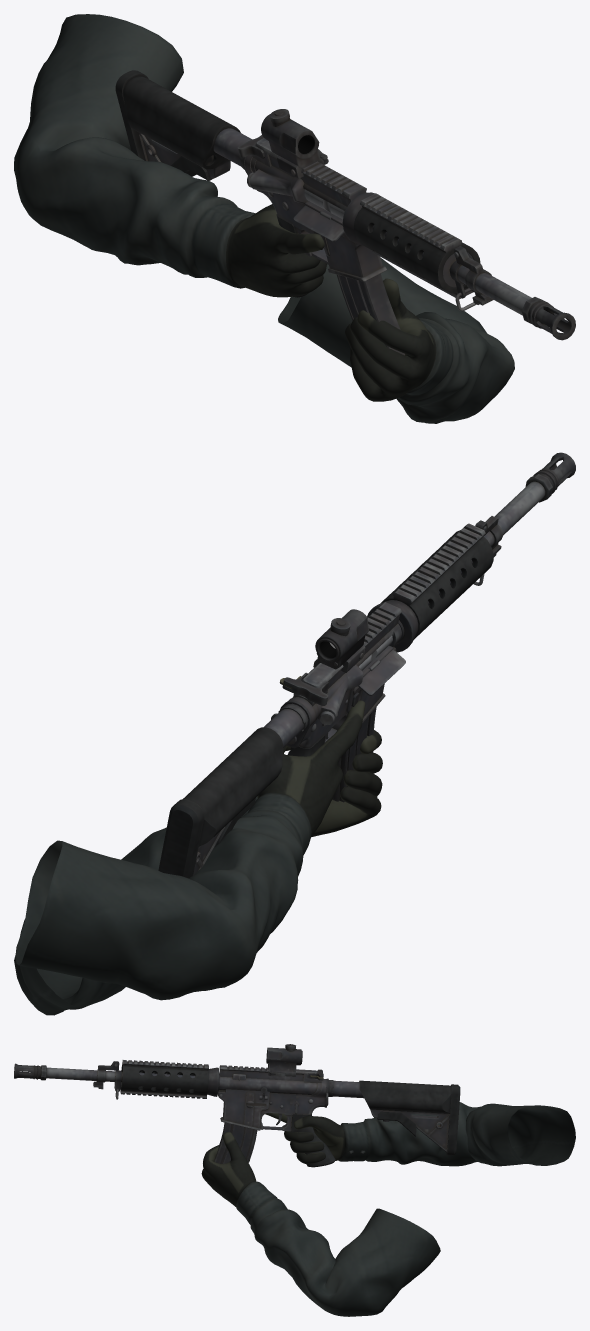
The model's file is carbine_000064.obj.
3 renders of one model, top to bottom at view 1: azimuth 30°, elevation 25°; view 2: azimuth 150°, elevation 25°; view 3: azimuth 270°, elevation 25°, orthographic. The views are drawn at different scales.
Parts seen in each view (by area): view 1: armmesh_arms_0, base_carbine_0, scope_carbine_0, clip_carbine_0, lid_carbine_0; view 2: armmesh_arms_0, base_carbine_0, scope_carbine_0, lid_carbine_0, clip_carbine_0, handle_carbine_0; view 3: armmesh_arms_0, base_carbine_0, scope_carbine_0, clip_carbine_0.
Part boxes in pixels (<box>): armmesh_arms_0: <box>14,14,514,423</box>; base_carbine_0: <box>115,70,575,340</box>; scope_carbine_0: <box>261,109,328,178</box>; clip_carbine_0: <box>337,274,404,355</box>; lid_carbine_0: <box>293,205,344,241</box>; armmesh_arms_0: <box>14,700,382,1015</box>; base_carbine_0: <box>158,452,575,878</box>; scope_carbine_0: <box>313,609,368,672</box>; lid_carbine_0: <box>358,649,405,695</box>; clip_carbine_0: <box>332,707,376,802</box>; handle_carbine_0: <box>282,672,329,705</box>; armmesh_arms_0: <box>201,1102,575,1316</box>; base_carbine_0: <box>14,1060,460,1167</box>; scope_carbine_0: <box>266,1044,302,1076</box>; clip_carbine_0: <box>214,1122,257,1163</box>.
Size of the model in its own units: 48.9 by 53 by 127.
Materials: 3 (3 with a texture image).
